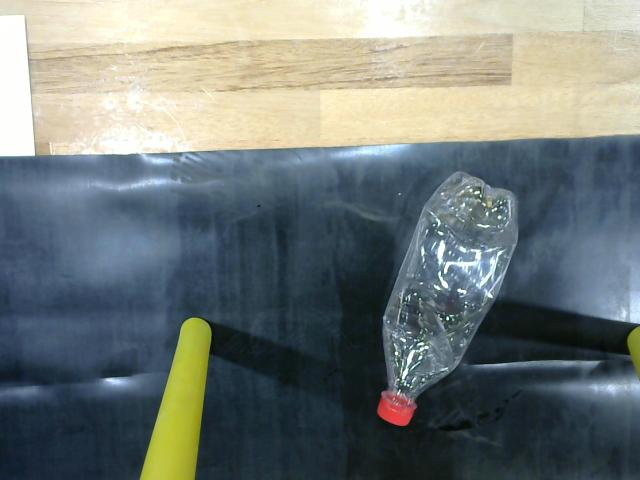bottle: (372, 168, 534, 431)
